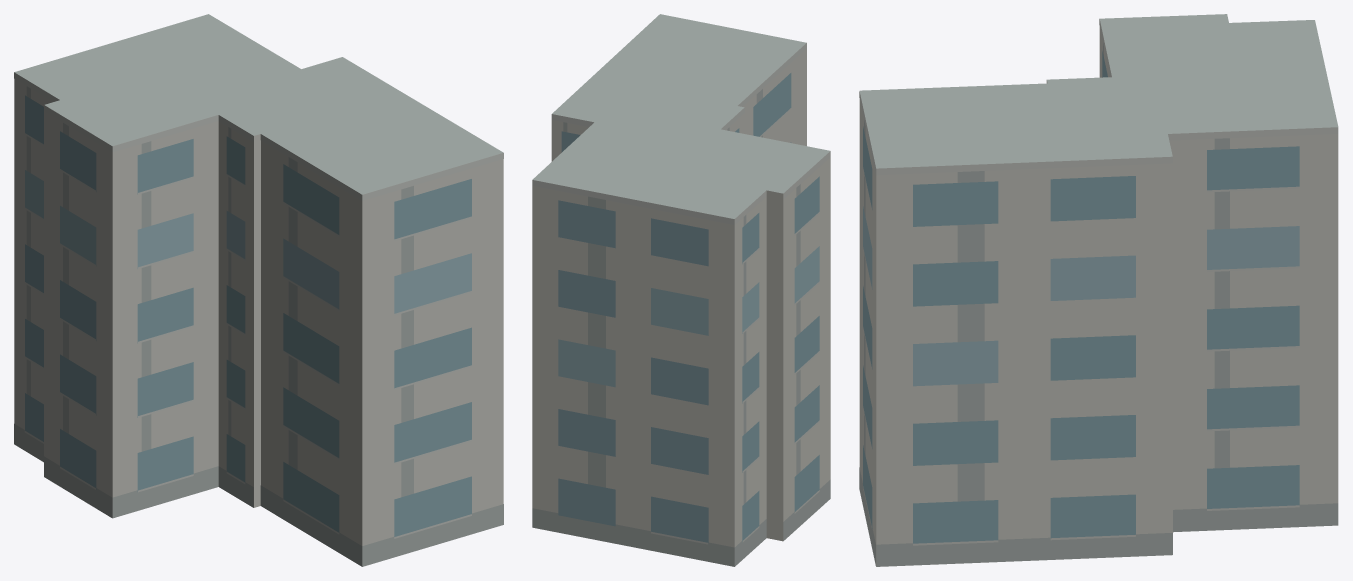
The model's file is survey-upis-32567904.glb.
The picture shows the model from 3 angles, left to right: view 1: azimuth 30°, elevation 25°; view 2: azimuth 150°, elevation 25°; view 3: azimuth 270°, elevation 25°; orthographic projection. The views are drawn at different scales.
Visible parts, largest first — view 1: survey-upis-32567904.tmp; view 2: survey-upis-32567904.tmp; view 3: survey-upis-32567904.tmp.
Boxes of the visible parts, <box> form: survey-upis-32567904.tmp: <box>14,14,503,566</box>; survey-upis-32567904.tmp: <box>532,14,830,566</box>; survey-upis-32567904.tmp: <box>859,14,1338,566</box>.
Size of the model in its own units: 12.05 by 14.47 by 15.78.
